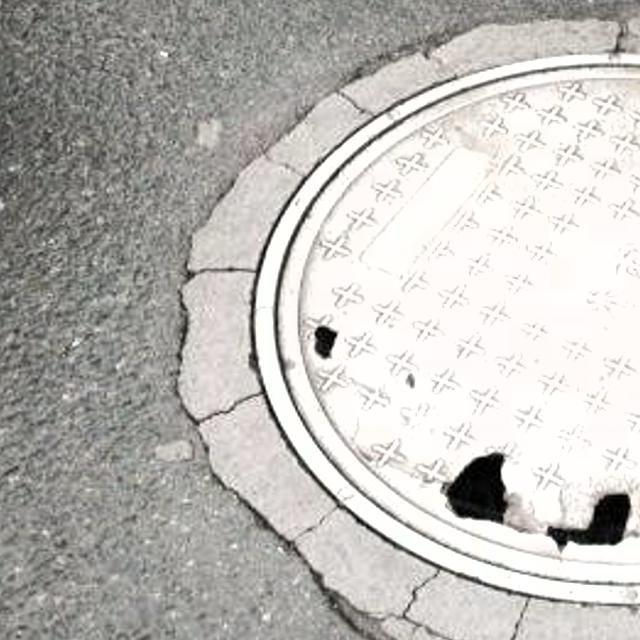broke: (210, 31, 640, 640)
